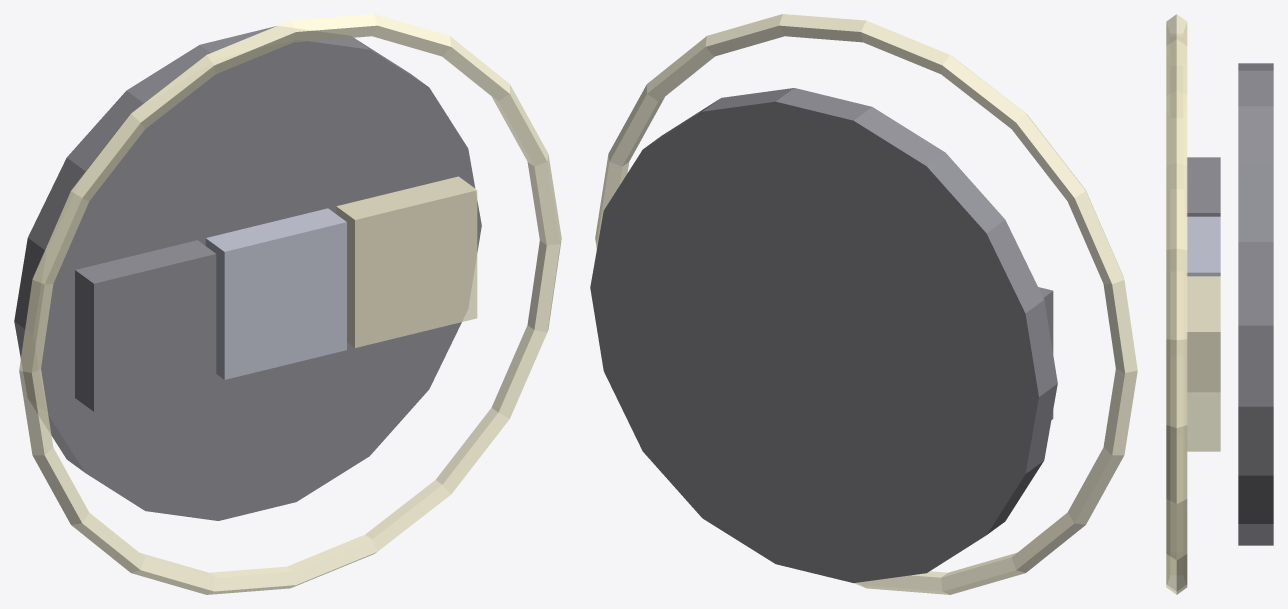
The model's file is 01_biome_recolor_overlay_1.glb.
3 renders of one model, left to right at view 1: azimuth 30°, elevation 25°; view 2: azimuth 150°, elevation 25°; view 3: azimuth 270°, elevation 25°, orthographic. The views are drawn at different scales.
Visible parts, largest first — view 1: palette_base, recolor_ring, swatch_base, swatch_accent, swatch_glow; view 2: palette_base, recolor_ring; view 3: palette_base, recolor_ring, swatch_glow, swatch_accent, swatch_base.
Part boxes in pixels (x1=…): palette_base: x1=14, y1=26, x2=481, y2=520; recolor_ring: x1=19, y1=14, x2=561, y2=594; swatch_base: x1=75, y1=240, x2=216, y2=411; swatch_accent: x1=205, y1=208, x2=346, y2=379; swatch_glow: x1=336, y1=176, x2=477, y2=347; palette_base: x1=590, y1=88, x2=1057, y2=583; recolor_ring: x1=595, y1=14, x2=1137, y2=594; palette_base: x1=1238, y1=63, x2=1273, y2=545; recolor_ring: x1=1166, y1=14, x2=1187, y2=594; swatch_glow: x1=1187, y1=276, x2=1220, y2=451; swatch_accent: x1=1186, y1=216, x2=1220, y2=391; swatch_base: x1=1186, y1=157, x2=1220, y2=216.
Size of the model in its own units: 1.33 by 1.33 by 0.2438.
